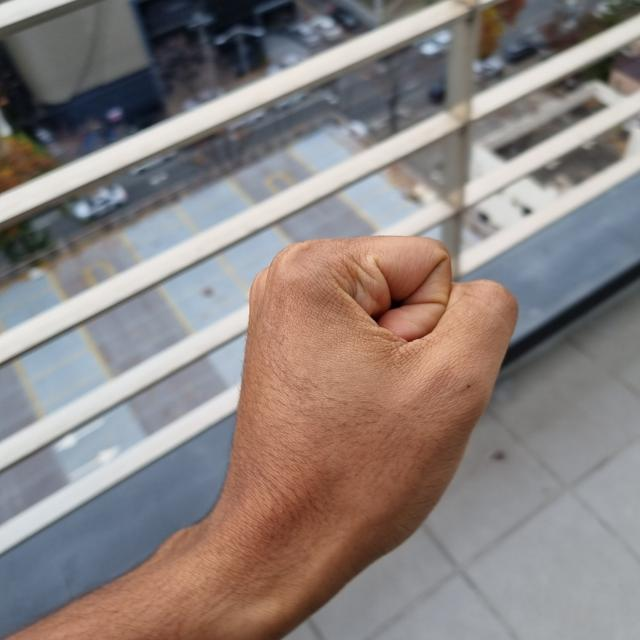Rock: (212, 233, 517, 592)
